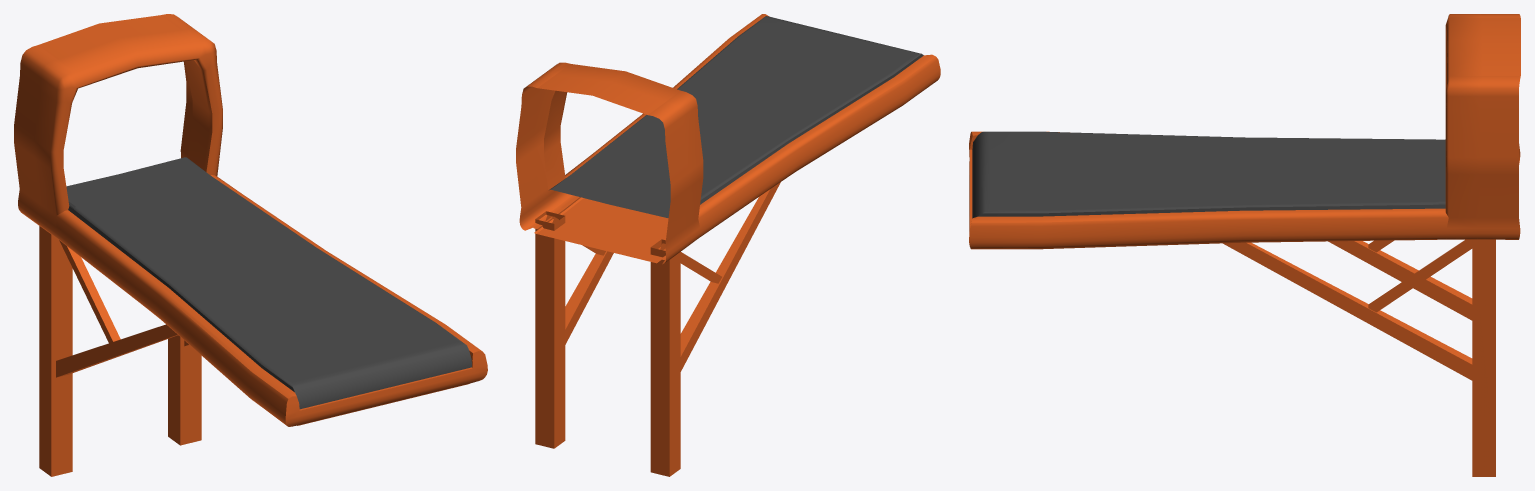
Rendered from MODEL_ENV_Conveyor_2.fbx.
3 views of the same model, side by side, from view 1: azimuth 30°, elevation 25°; view 2: azimuth 150°, elevation 25°; view 3: azimuth 270°, elevation 25° (orthographic). The views are drawn at different scales.
Parts seen in each view (by area): view 1: Conveyor_End.004; view 2: Conveyor_End.004; view 3: Conveyor_End.004.
Boxes of the visible parts, x1=… form: Conveyor_End.004: x1=14, y1=14, x2=487, y2=476; Conveyor_End.004: x1=516, y1=14, x2=940, y2=476; Conveyor_End.004: x1=969, y1=14, x2=1520, y2=476.
Size of the model in its own units: 385 by 758 by 947.
